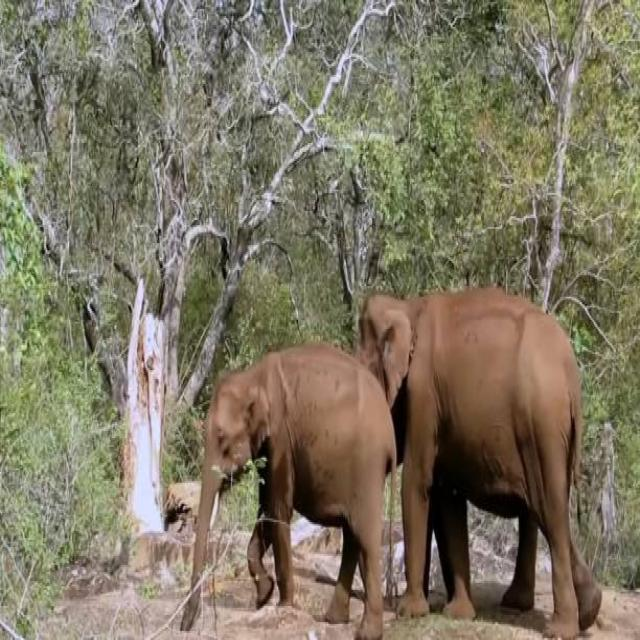Elephant: (358, 271, 604, 640), (182, 343, 391, 640)
